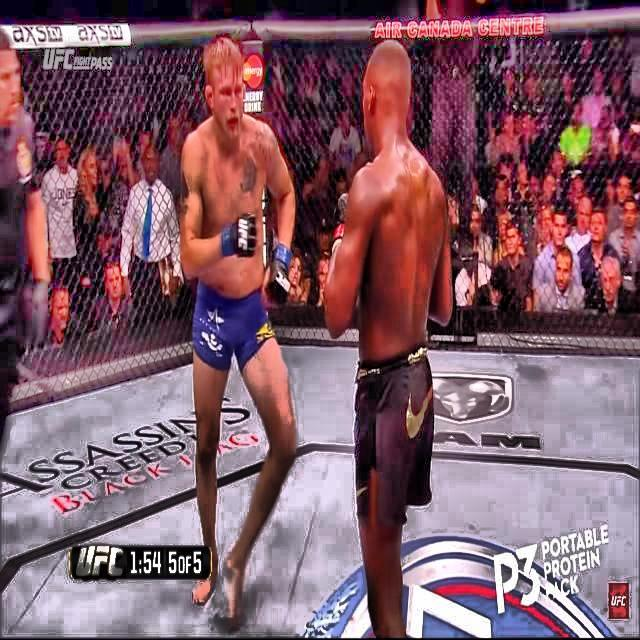kick-knee: (202, 36, 254, 204)
low-guard: (329, 40, 457, 635), (182, 40, 306, 632), (0, 40, 55, 487)
